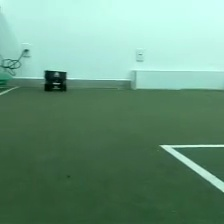goal: (129, 67, 224, 93)
robot: (41, 68, 68, 92)
